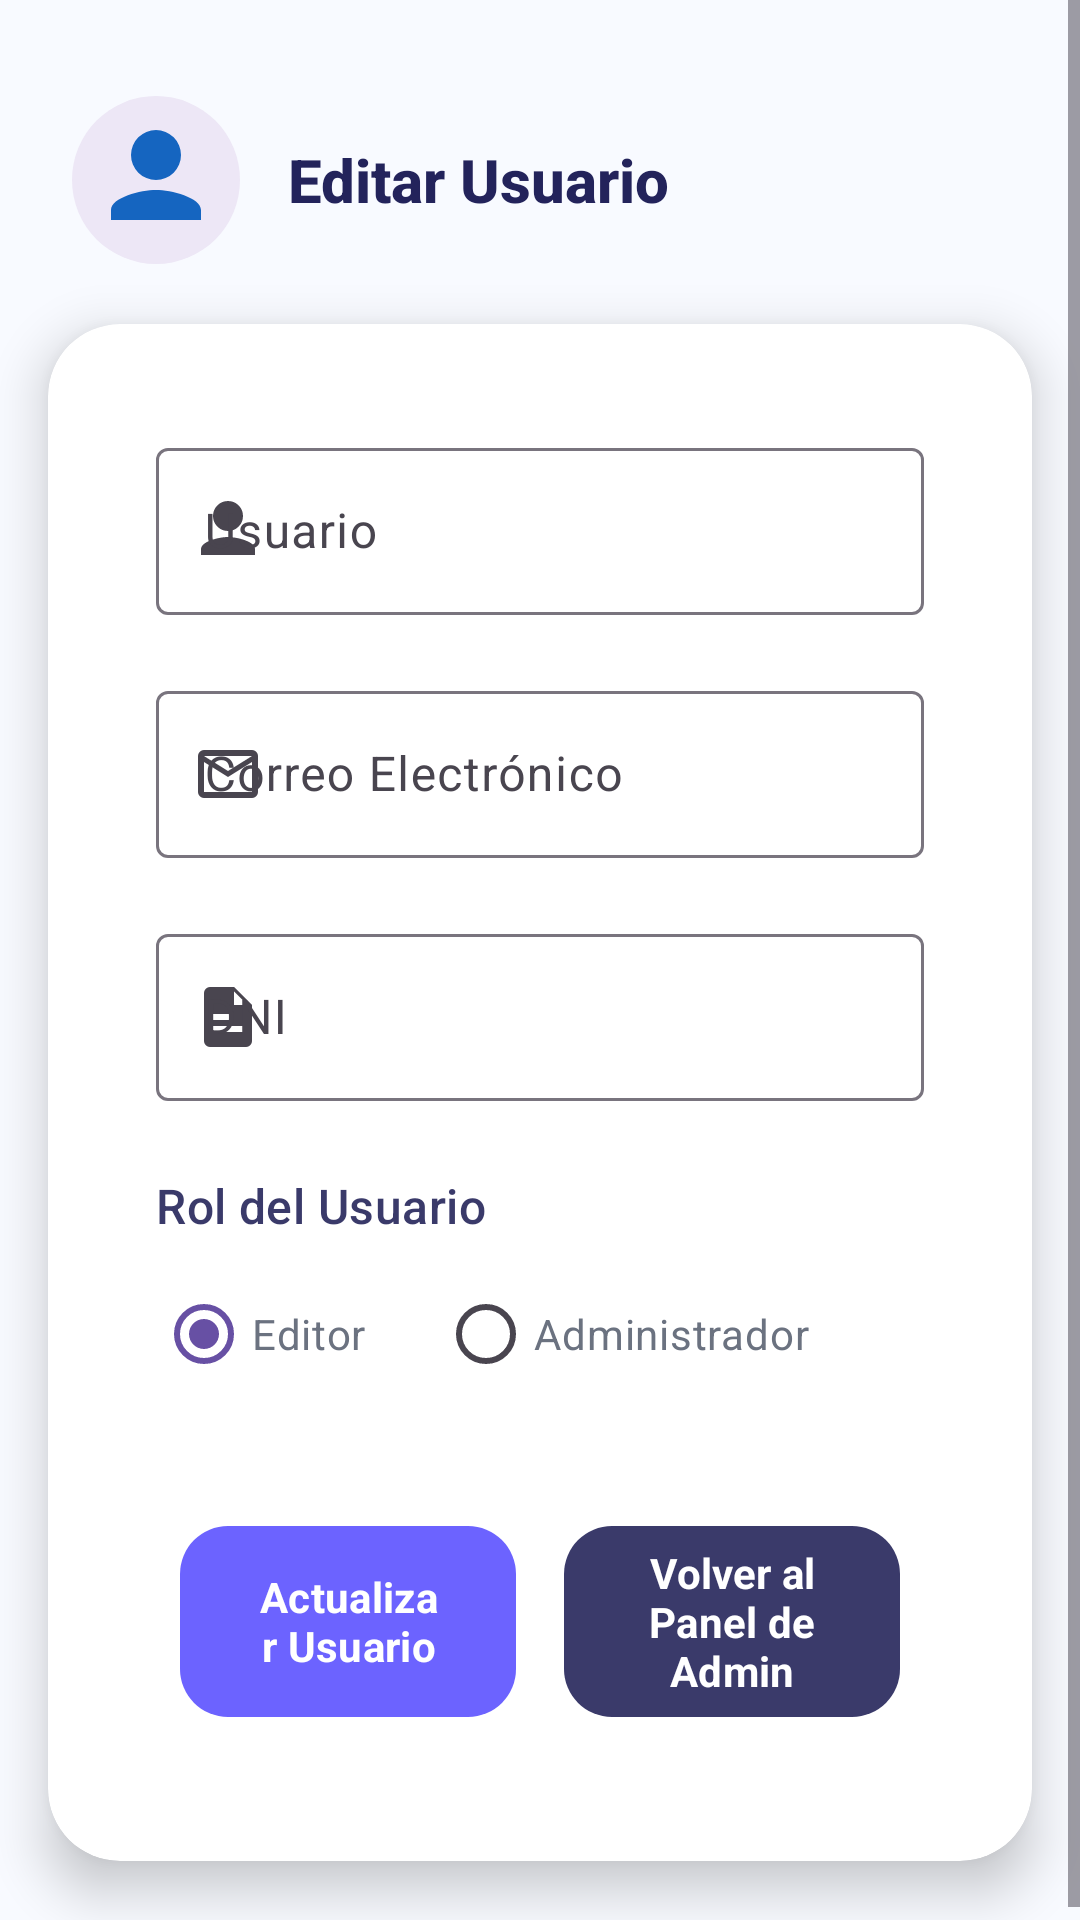

Screen size 1080w x 1920h. Icon name, then its box in pixels as [left=x1, top=y1, right=x2, bottom=y2]:
Avatar: [left=111, top=130, right=201, bottom=220]
